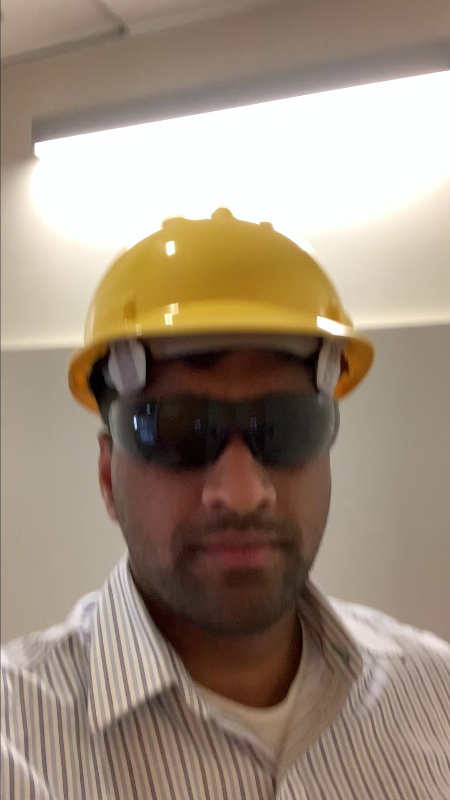glasses: (102, 386, 359, 466)
helmet: (46, 206, 380, 389)
